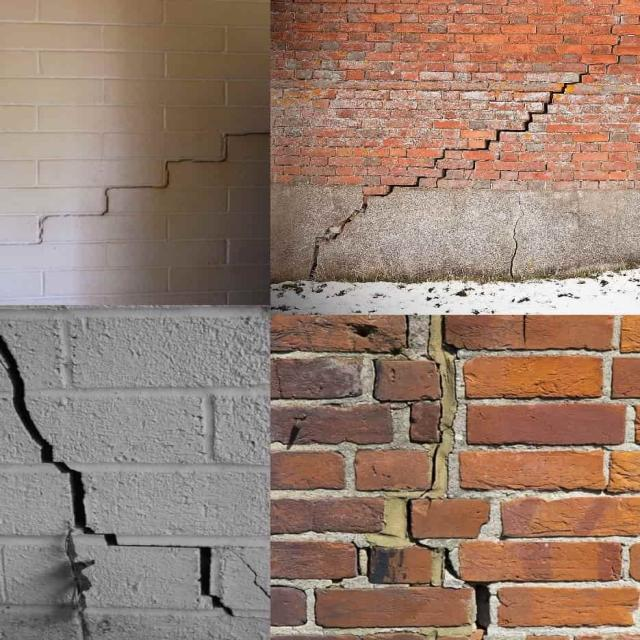Crack: (308, 0, 624, 274), (0, 334, 236, 615), (16, 128, 271, 246), (402, 315, 486, 631)
